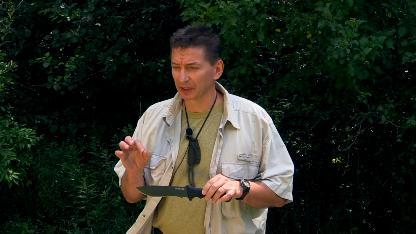knife: (135, 173, 233, 203)
